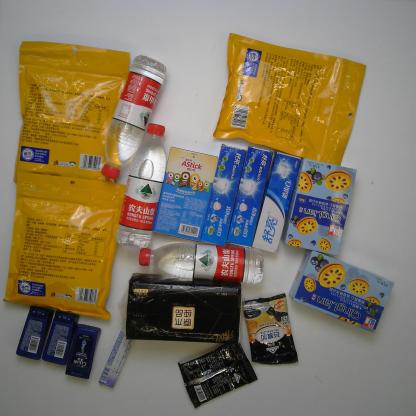Candy: (97, 330, 133, 389)
Dessert: (288, 249, 396, 336), (282, 159, 359, 256), (153, 146, 219, 243)
Dried Fruit: (211, 29, 368, 165), (2, 170, 127, 322), (12, 39, 132, 182)
Drink: (99, 52, 168, 182), (114, 123, 169, 250), (136, 243, 267, 286)
Instant Drink: (176, 344, 260, 411), (240, 292, 301, 366)
Personal Hygiene: (252, 153, 302, 255), (228, 144, 274, 252), (200, 143, 245, 248), (41, 306, 80, 366), (63, 322, 101, 380), (14, 304, 53, 360)
Tissue: (122, 272, 242, 346)
